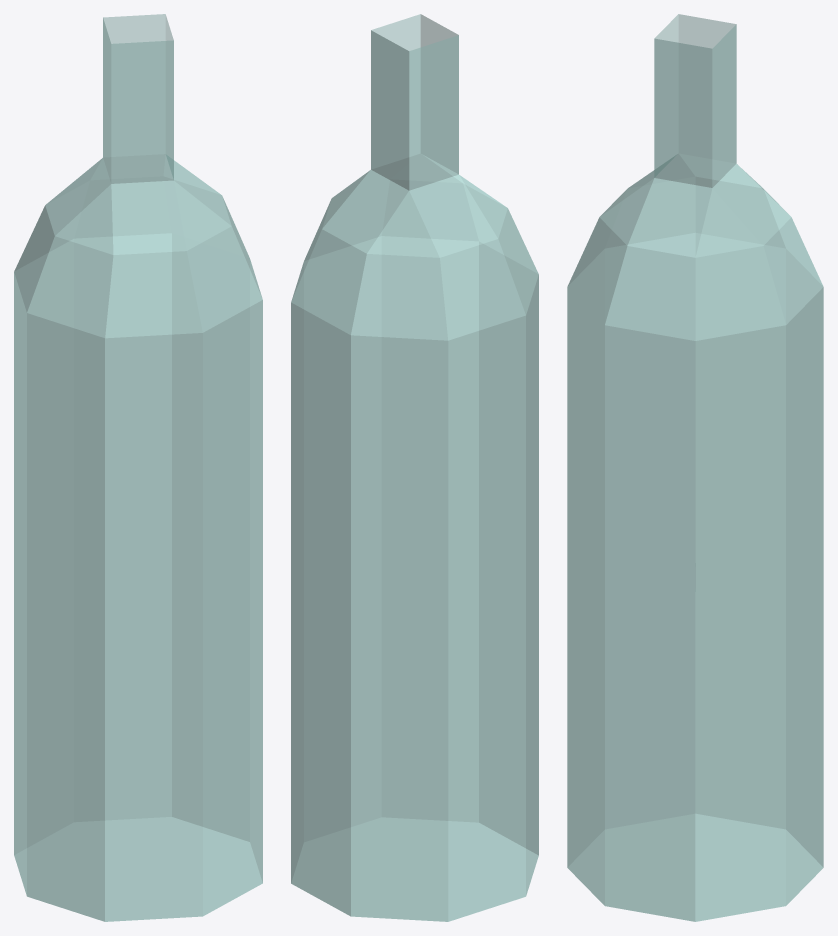
Rendered from Glass Bottle.fbx.
The picture shows the model from 3 angles, left to right: view 1: azimuth 30°, elevation 25°; view 2: azimuth 150°, elevation 25°; view 3: azimuth 270°, elevation 25°; orthographic projection.
Parts seen in each view (by area): view 1: Glass Bottle; view 2: Glass Bottle; view 3: Glass Bottle.
Part boxes in pixels (x1,y1,x2,y2): Glass Bottle: (14,14,262,921); Glass Bottle: (291,14,538,921); Glass Bottle: (567,14,823,921).
Bounding box in the file's own units: 10 × 36 × 10.
